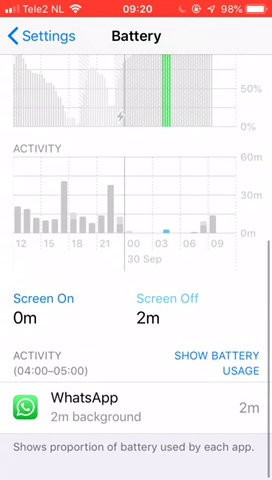activity: (10, 347, 124, 375)
app: (8, 389, 264, 424)
